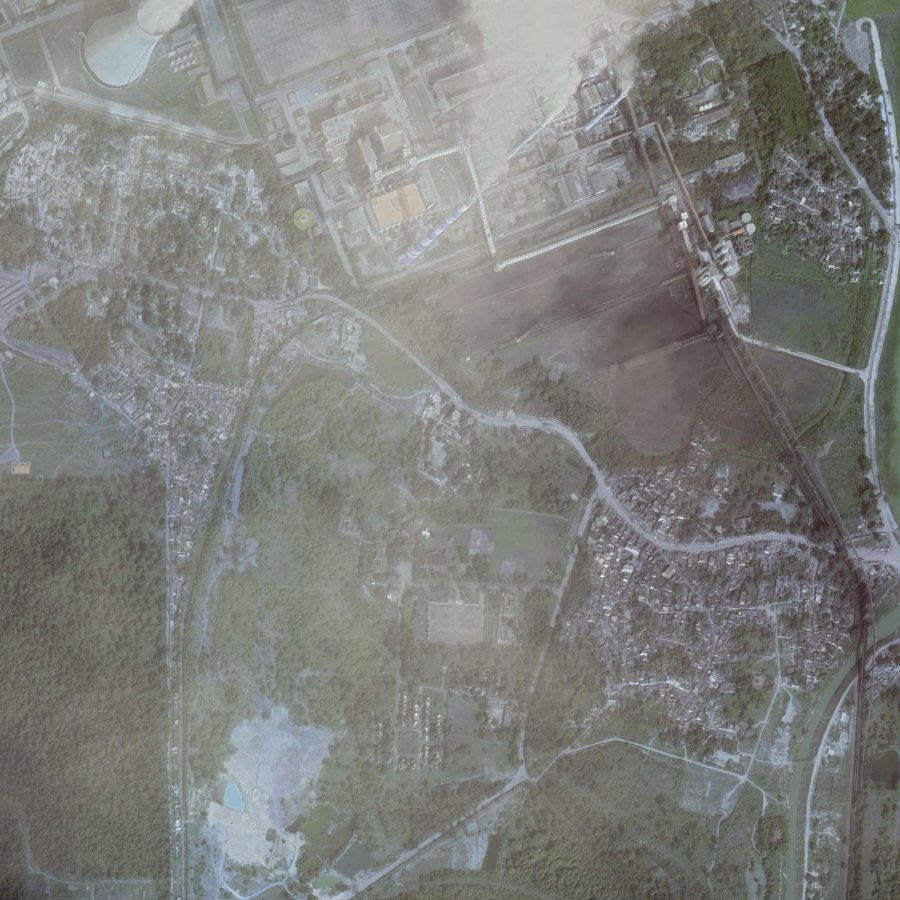PowerPlant: (364, 14, 654, 295)
